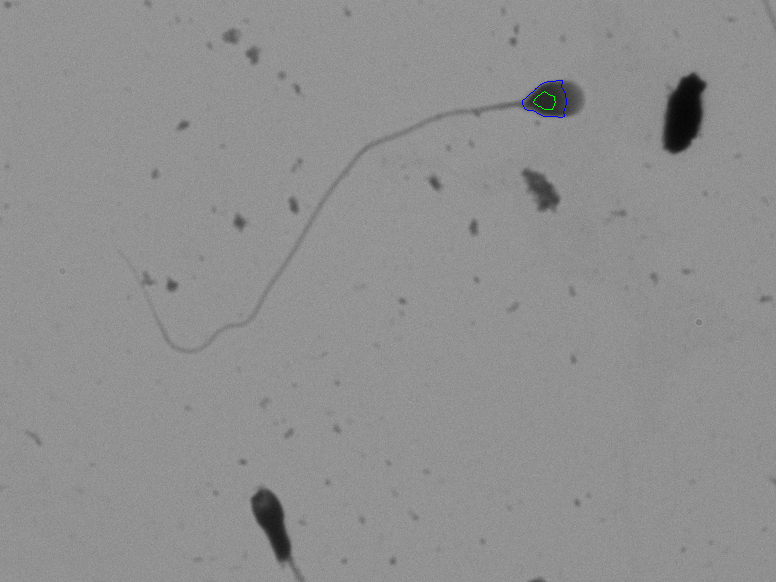Normal: (73, 40, 615, 394)
